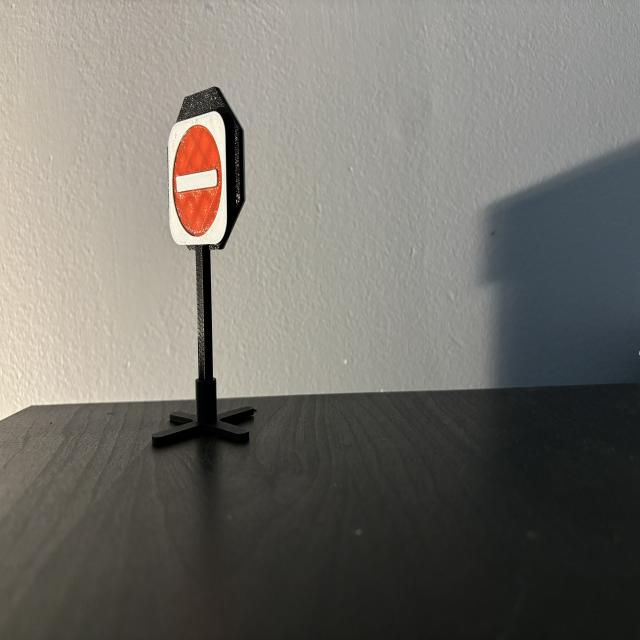sign_noentry: (170, 113, 228, 245)
